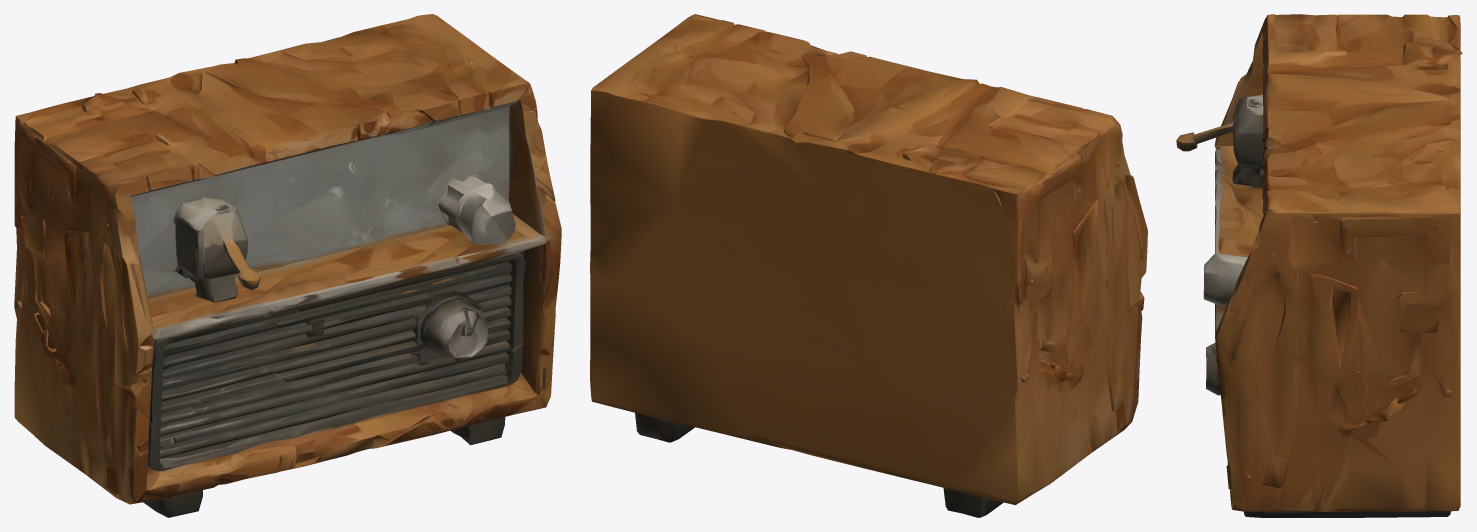
The model's file is radio_idle.glb.
3 renders of one model, left to right at view 1: azimuth 30°, elevation 25°; view 2: azimuth 150°, elevation 25°; view 3: azimuth 270°, elevation 25°, orthographic. The views are drawn at different scales.
Visible parts, largest first — view 1: tripo_node_5f3bf76f-0c94-4267-9f91-abc8d8b316ed; view 2: tripo_node_5f3bf76f-0c94-4267-9f91-abc8d8b316ed; view 3: tripo_node_5f3bf76f-0c94-4267-9f91-abc8d8b316ed.
Boxes of the visible parts, left/top/right/bottom form: tripo_node_5f3bf76f-0c94-4267-9f91-abc8d8b316ed: left=14, top=14, right=561, bottom=517; tripo_node_5f3bf76f-0c94-4267-9f91-abc8d8b316ed: left=590, top=14, right=1147, bottom=517; tripo_node_5f3bf76f-0c94-4267-9f91-abc8d8b316ed: left=1176, top=14, right=1462, bottom=517.
Size of the model in its own units: 0.4016 by 0.3 by 0.2355.
Materials: 1 (1 with a texture image).
